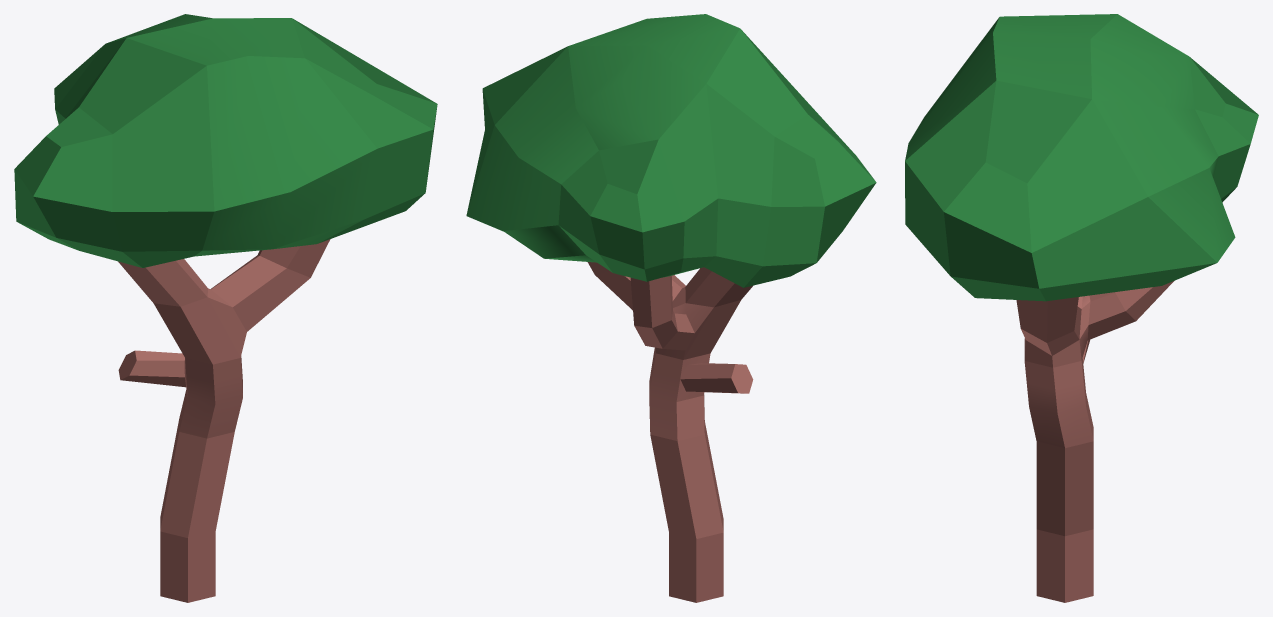
The model's file is Generic Tree 1_Mod (1).fbx.
3 views of the same model, side by side, from view 1: azimuth 30°, elevation 25°; view 2: azimuth 150°, elevation 25°; view 3: azimuth 270°, elevation 25° (orthographic). The views are drawn at different scales.
Visible parts, largest first — view 1: pCylinder3; view 2: pCylinder3; view 3: pCylinder3.
Part boxes in pixels (x1,y1,x2,y2): pCylinder3: (14, 14, 437, 602); pCylinder3: (466, 14, 876, 602); pCylinder3: (905, 14, 1258, 602).
Bounding box in the file's own units: 196 × 258 × 145.
